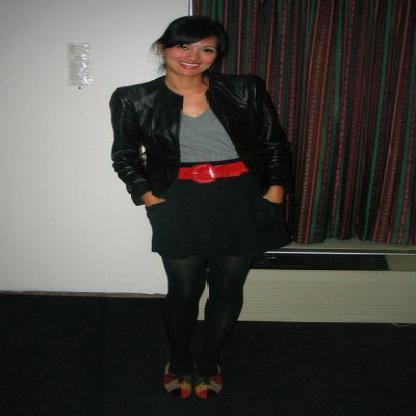jacket: (109, 64, 286, 205)
shirt: (179, 108, 236, 162)
shoe: (165, 379, 221, 398)
skirt: (146, 151, 291, 262)
